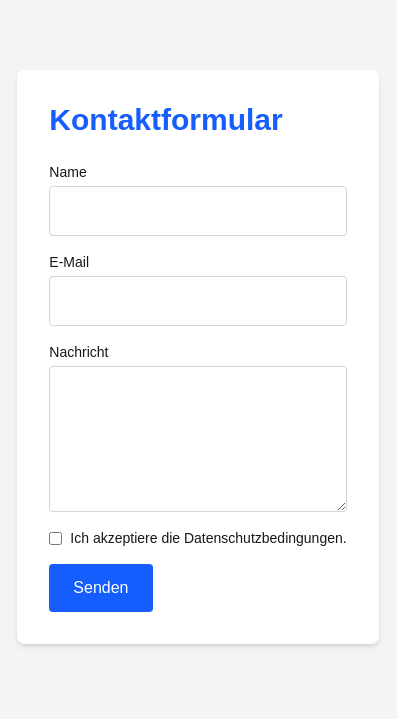
Scenario: ContactForm › shows validation errors if fields are empty
The width and height of the screenshot is (397, 719).
Click the button "Senden": (101, 588) x1=49 y1=564 x2=152 y2=612
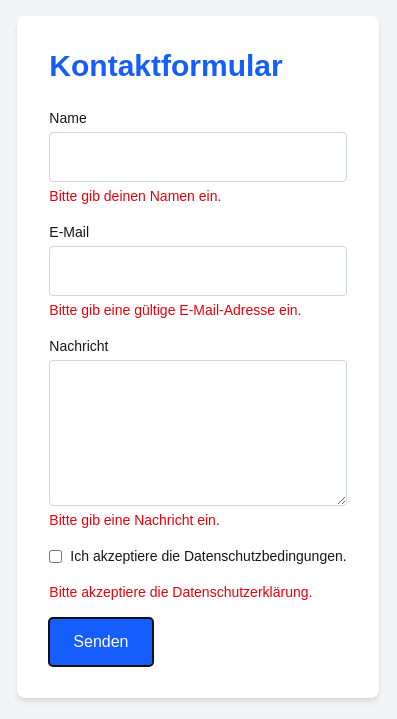
Expected: the text "Bitte gib deinen Namen ein." is shown, x1=49 y1=188 x2=221 y2=204
Expected: the text "Bitte gib eine gültige E-Mail-Adresse ein." is shown, x1=49 y1=302 x2=301 y2=318
Expected: the text "Bitte gib eine Nachricht ein." is shown, x1=49 y1=512 x2=220 y2=528
